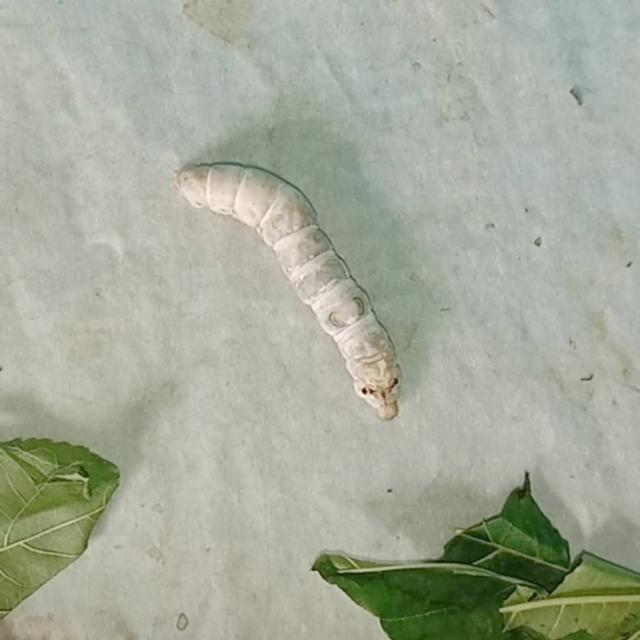Grasserie: (175, 140, 412, 436)
